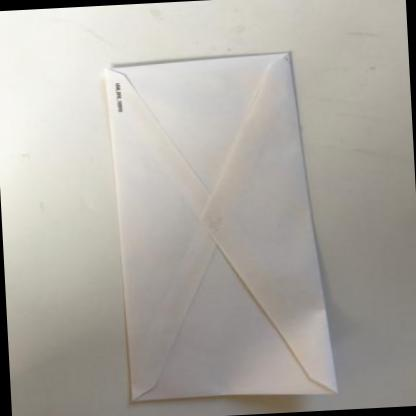Paper: (104, 53, 334, 400)
